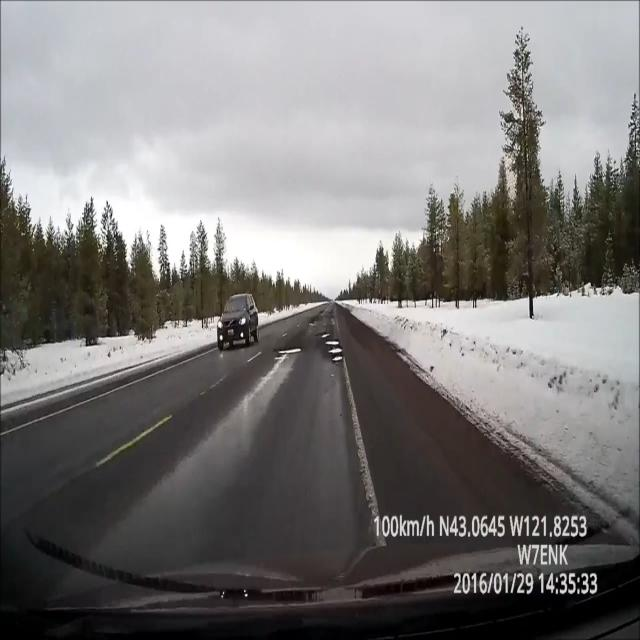Pothole: (322, 328, 350, 367), (272, 340, 310, 363)
